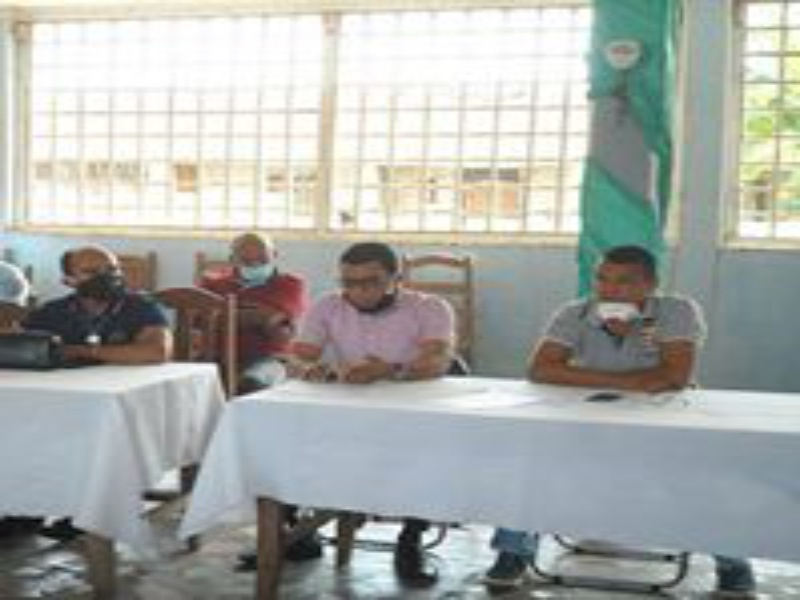ManaoArotava: (48, 233, 136, 309), (221, 228, 288, 288)
